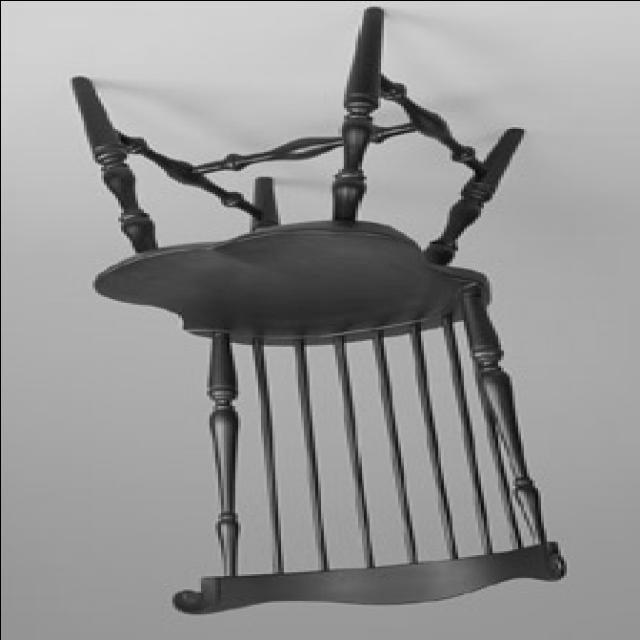chair: (68, 7, 564, 612)
